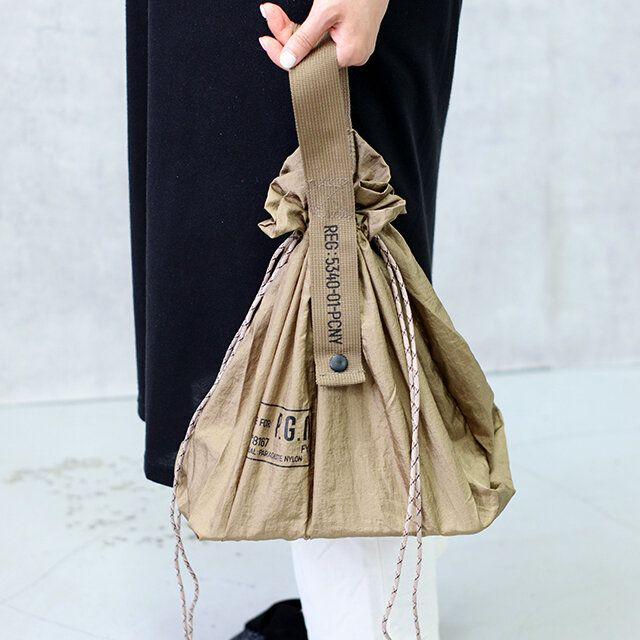nylon: (173, 127, 516, 539)
